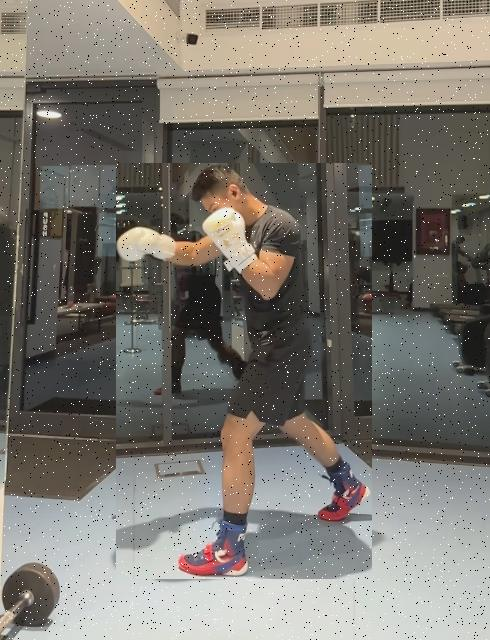punch: (116, 163, 372, 579)
